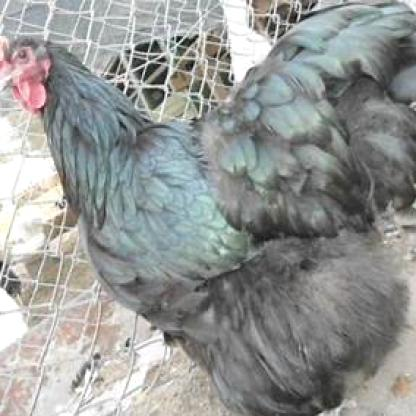chicken: (0, 1, 415, 414)
